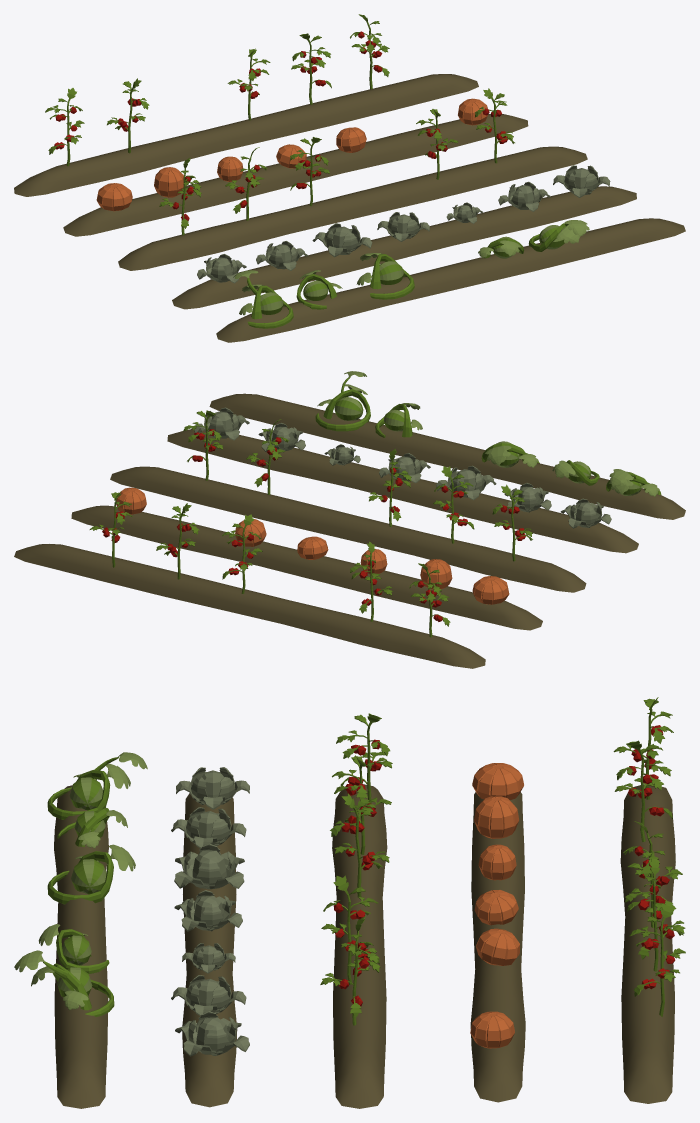
The model's file is farm_dirt_level_3.glb.
3 views of the same model, one above another, from view 1: azimuth 30°, elevation 25°; view 2: azimuth 150°, elevation 25°; view 3: azimuth 270°, elevation 25° (orthographic). The views are drawn at different scales.
Parts seen in each view (by area): view 1: Farm_Dirt_Level3; view 2: Farm_Dirt_Level3; view 3: Farm_Dirt_Level3.
Boxes of the visible parts, x1=… form: Farm_Dirt_Level3: x1=14, y1=14, x2=685, y2=342; Farm_Dirt_Level3: x1=14, y1=371, x2=685, y2=668; Farm_Dirt_Level3: x1=14, y1=697, x2=685, y2=1108.
Size of the model in its own units: 1.79 by 0.3226 by 1.56.
